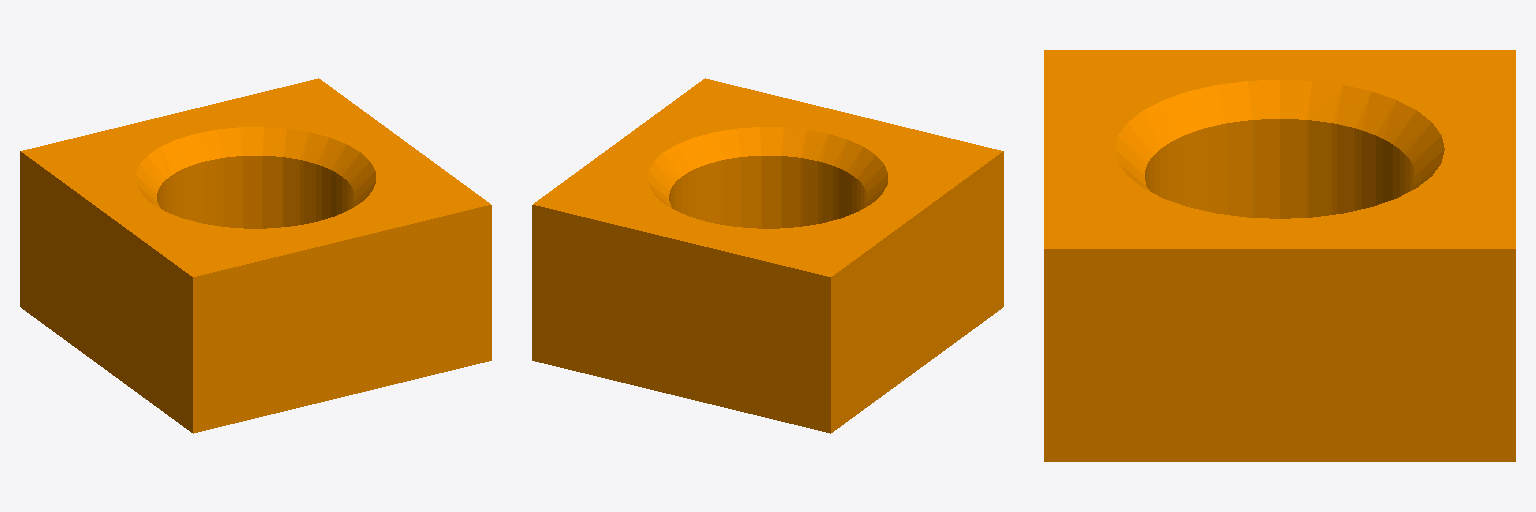
URDF robot description (hole_round):
<?xml version="1.0" ?>
<robot name="hole_round">
  <link concave="yes" name="hole_link">
    <contact>
      <lateral_friction value="1.0"/>
      <!-- <rolling_friction value="0.5"/>
      <contact_cfm value="0.0"/> -->
      <contact_erp value="0.0"/> 
    </contact>
    <inertial>
      <origin rpy="0 0 0" xyz="-0.042 -0.042 0"/>
        <mass value="0.1"/>
        <inertia ixx="0.01" ixy="0" ixz="0" iyy="0.01" iyz="0" izz="0.01"/>
    </inertial>
    <visual>
      <origin rpy="0 0 0" xyz="-0.042 -0.042 0"/>
      <geometry>
			  <mesh filename="meshes/hole/hole_round.STL" scale="0.001 0.001 0.001"/>
      </geometry>
      <material name="orange">
        <color rgba="1 0.6 0 1"/>
      </material>
    </visual>
    <collision concave="yes">
      <origin rpy="0 0 0" xyz="-0.042 -0.042 0"/>
      <geometry>
	 	    <mesh filename="meshes/hole/hole_round.STL" scale="0.001 0.001 0.001"/>
      </geometry>
    </collision>
  </link>
  <link name="hole_target_link">
    <inertial>
      <mass value="0" />
      <origin rpy="0 0 0" xyz="0.0 0.0 0.0" />
      <inertia ixx="0.0" ixy="0.0" ixz="0.0" iyy="0.0" iyz="0.0" izz="0.0" />
    </inertial>
  </link>
  <joint name="hole_link-hole_target_link" type="fixed">
    <parent link="hole_link"/>
    <child link="hole_target_link"/>
    <origin rpy="0.0 0.0 0.0" xyz="0.0 0.0 0.0"/>
  </joint>
</robot>

--- Facts derived from the render (not from the file) ---
Views: 3 orthographic renders of the robot side by side, from view 1: azimuth 30°, elevation 25°; view 2: azimuth 150°, elevation 25°; view 3: azimuth 270°, elevation 25°.
Model hole_round with 2 links and 1 joints (1 fixed), rooted at hole_link, posed every joint at zero.
Visible links, largest first — view 1: hole_link; view 2: hole_link; view 3: hole_link.
Link boxes in pixels (x1=…): hole_link: x1=20, y1=78, x2=491, y2=433; hole_link: x1=532, y1=78, x2=1003, y2=433; hole_link: x1=1044, y1=50, x2=1515, y2=461.
Size in the robot's own frame: 0.08 by 0.08 by 0.04 metres.
Meshes: 1 distinct files referenced, 1 mesh visuals loaded (1 binary STL).